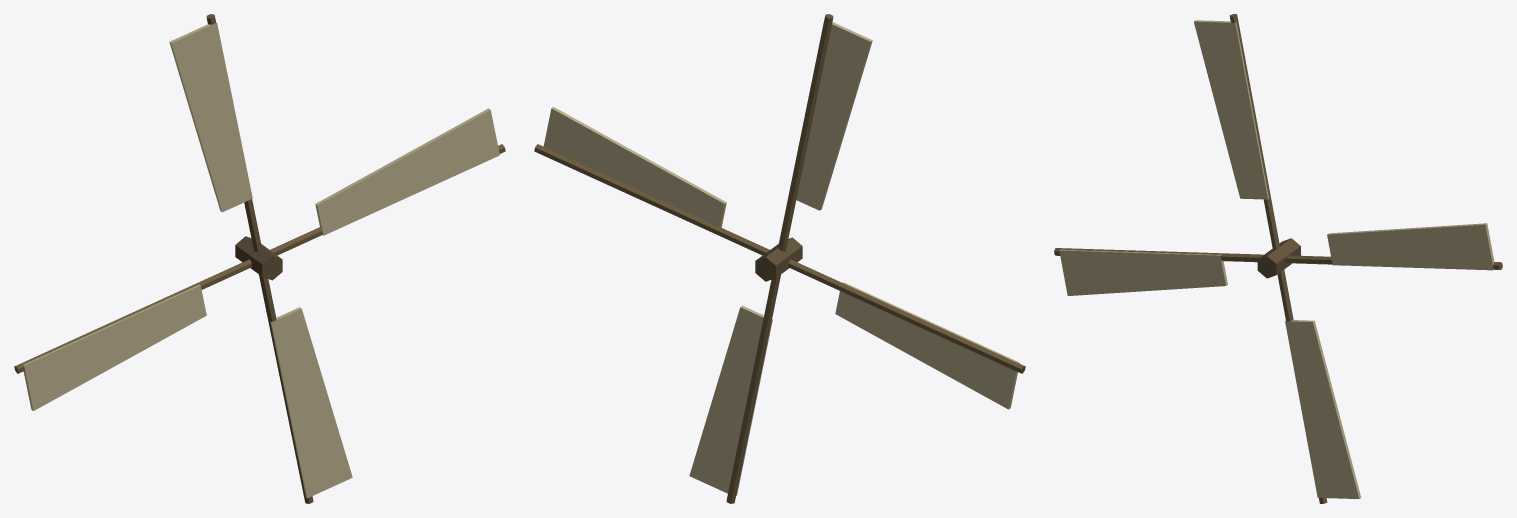
Rendered from mill_rotor.glb.
3 views of the same model, side by side, from view 1: azimuth 30°, elevation 25°; view 2: azimuth 150°, elevation 25°; view 3: azimuth 330°, elevation 25° (orthographic). The views are drawn at different scales.
Visible parts, largest first — view 1: mill_rotor; view 2: mill_rotor; view 3: mill_rotor.
Part boxes in pixels (bbox=[...]): mill_rotor: bbox=[14, 14, 505, 503]; mill_rotor: bbox=[534, 14, 1025, 503]; mill_rotor: bbox=[1054, 14, 1502, 503].
Bounding box in the file's own units: 15.73 × 15.73 × 1.5.
